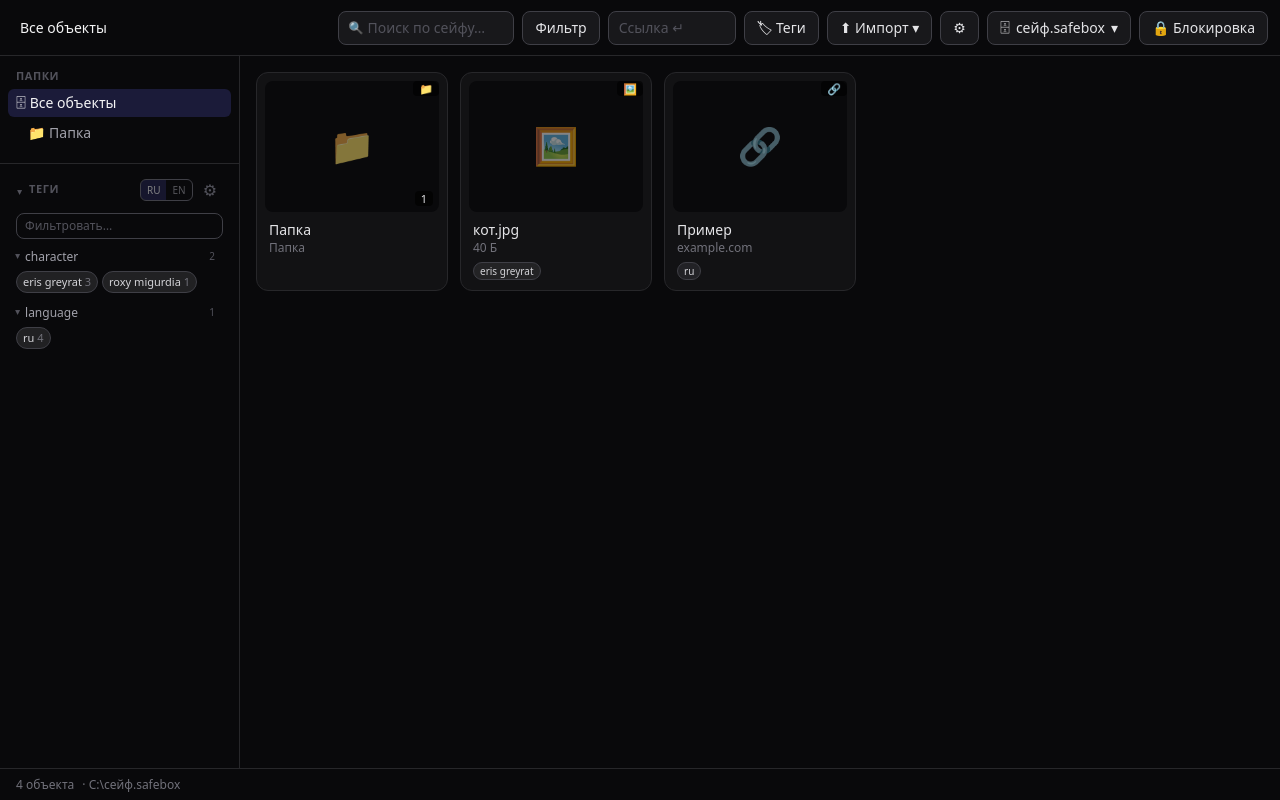
Scenario: теги на карточках и в панели свойств › «Теги…» в меню карточки открывает панель свойств с фокусом в поле тегов
Expected: the text "кот.jpg" is shown, [473, 220, 519, 240]
Right-click the element showing "🖼️ 🖼️ кот.jpg 40 Б eris greyrat" at (556, 181), box [460, 72, 652, 290]
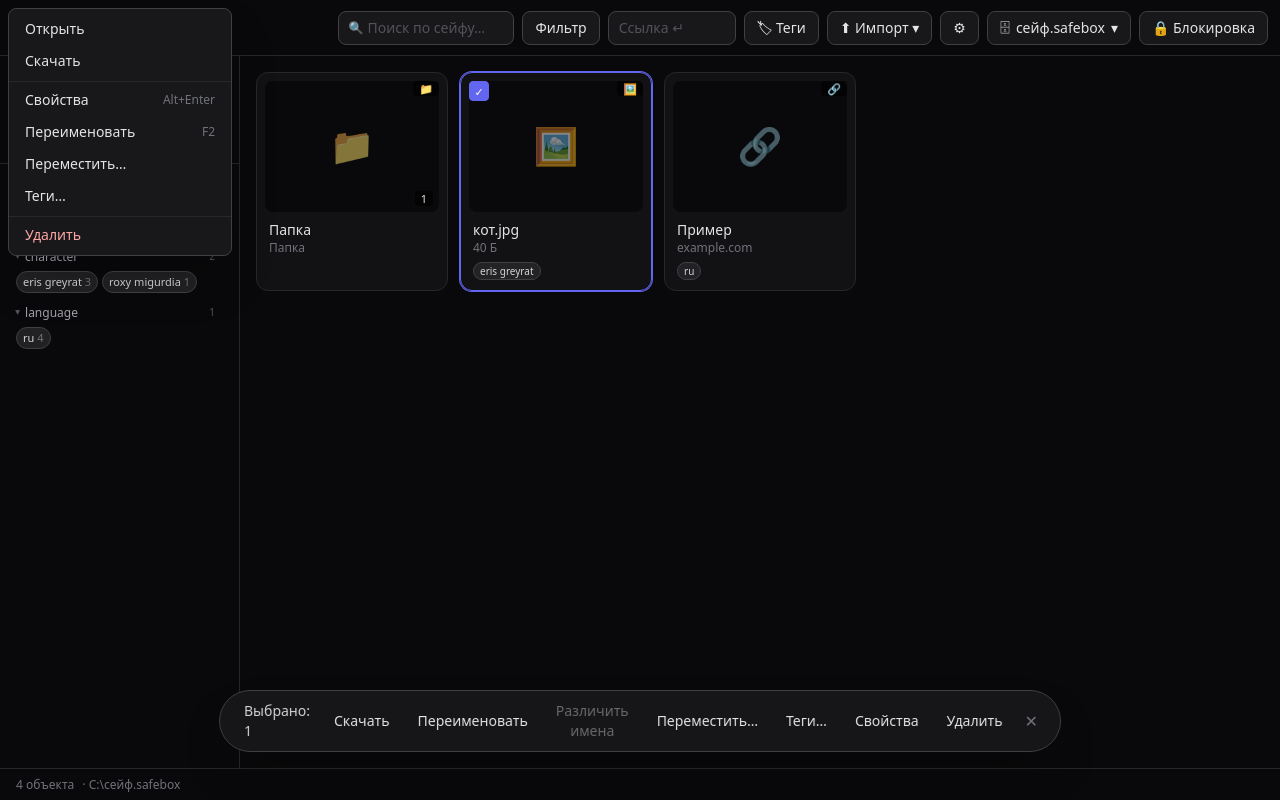
Click the menu item "Теги…" at (120, 196), box [9, 180, 231, 212]
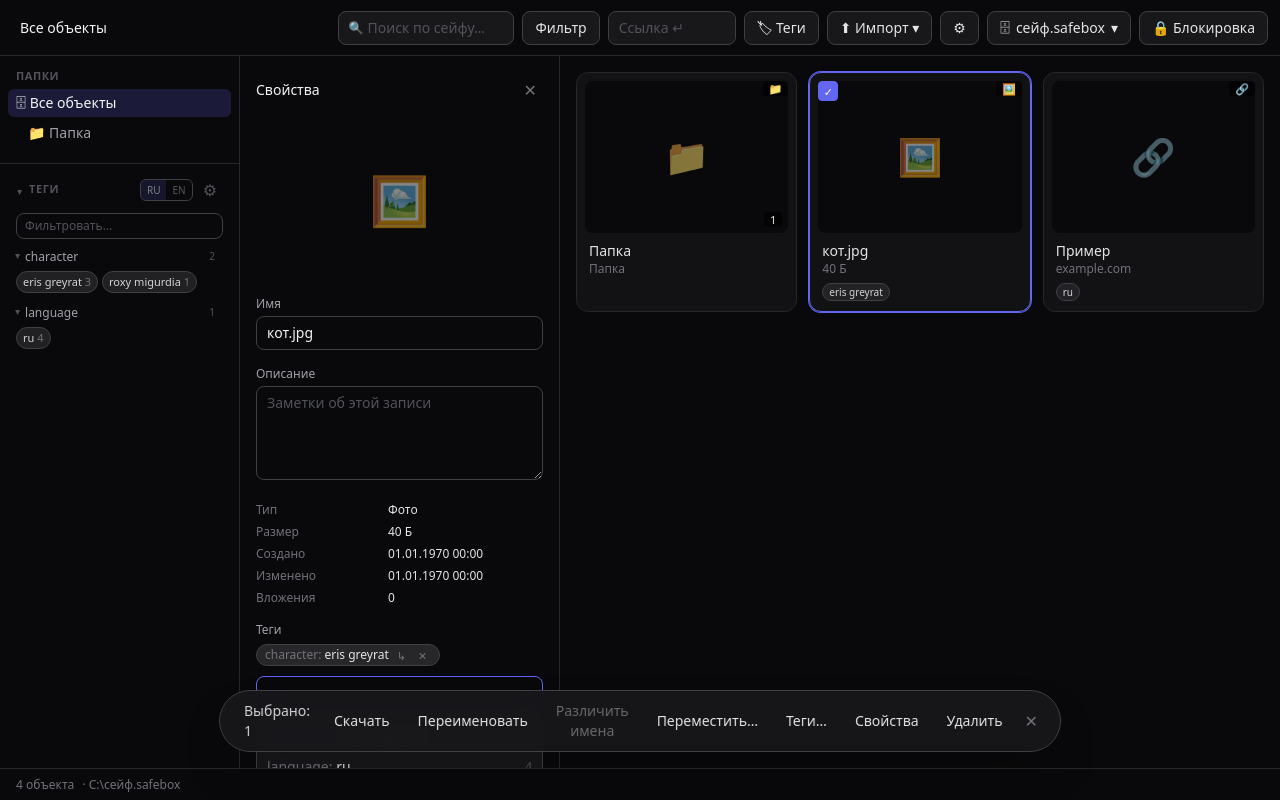
Expected: the button named "Снять тег «character: eris greyrat»" is shown, [414, 650, 431, 660]
